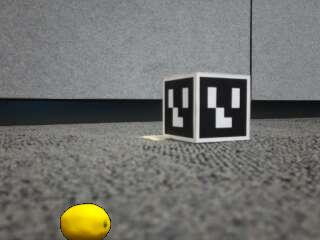lemon: (61, 204, 110, 240)
